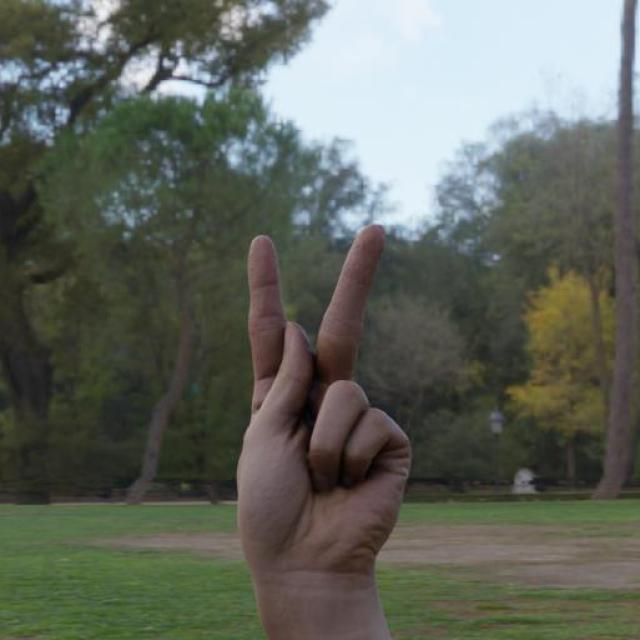K: (235, 220, 414, 598)
